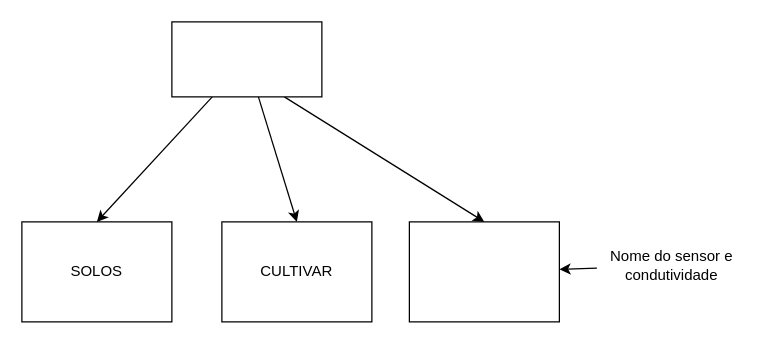
This 769x344 diagram has some shape labels left out. Here are the shapes that lost their labels. From the top down, the centre of each, then its label:
pixel 246 59: PARCELAS
pixel 483 271: RESERVATÓRIO
